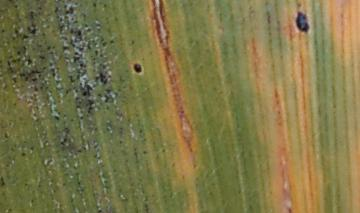tarspot: (293, 9, 311, 34), (131, 62, 145, 77), (94, 72, 109, 86), (81, 84, 93, 98), (76, 27, 83, 38), (29, 27, 37, 35), (20, 33, 29, 40)
